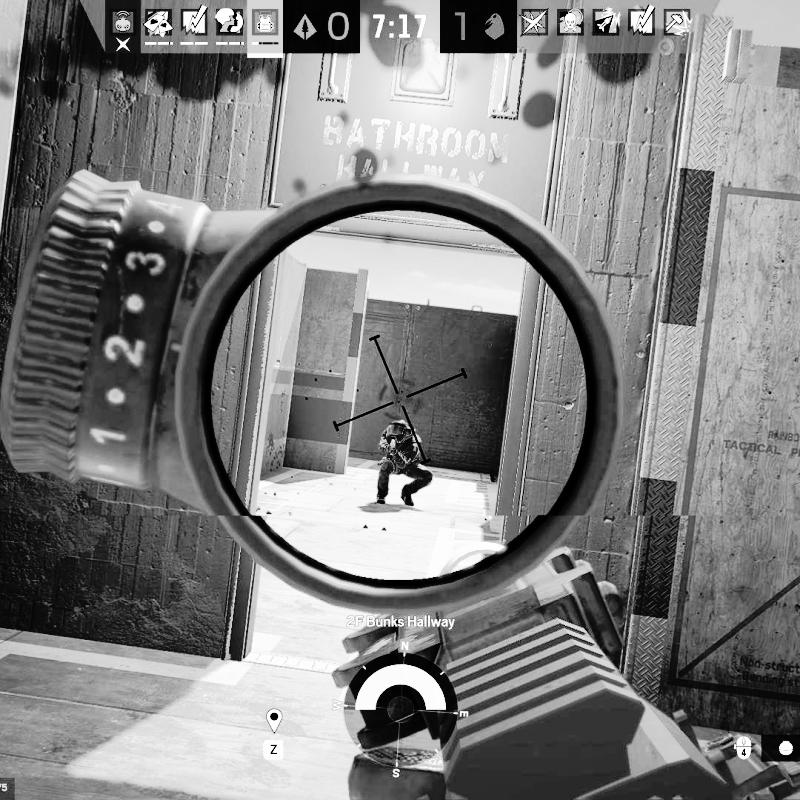Character: (372, 416, 434, 510)
Head: (387, 418, 412, 443)
